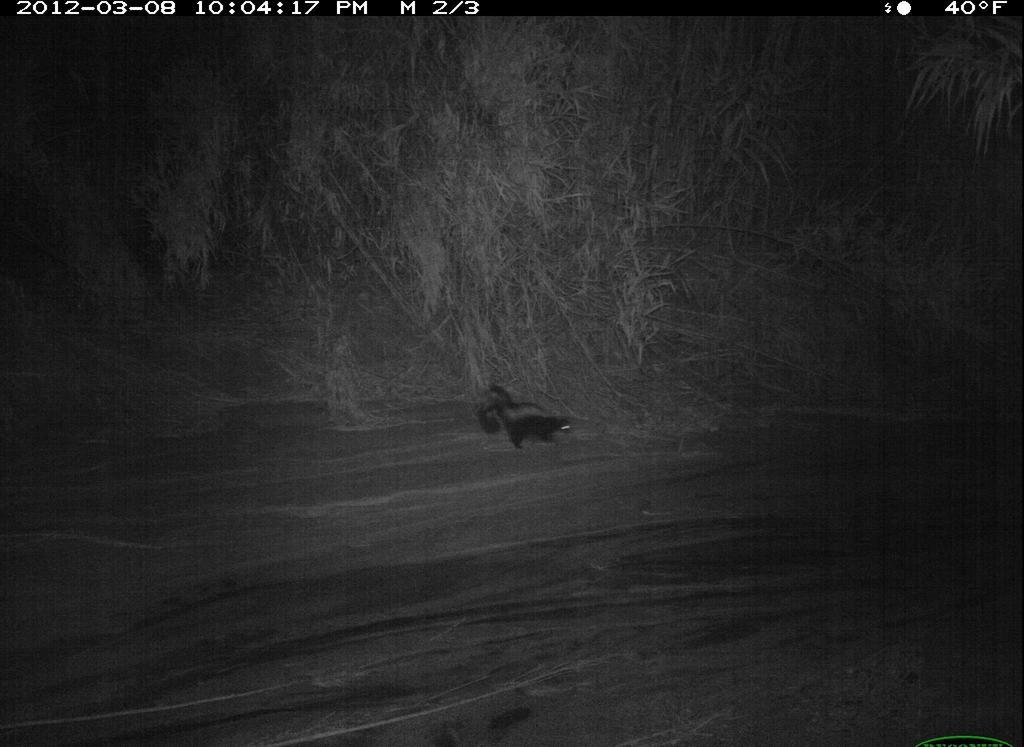skunk: (472, 377, 584, 465)
